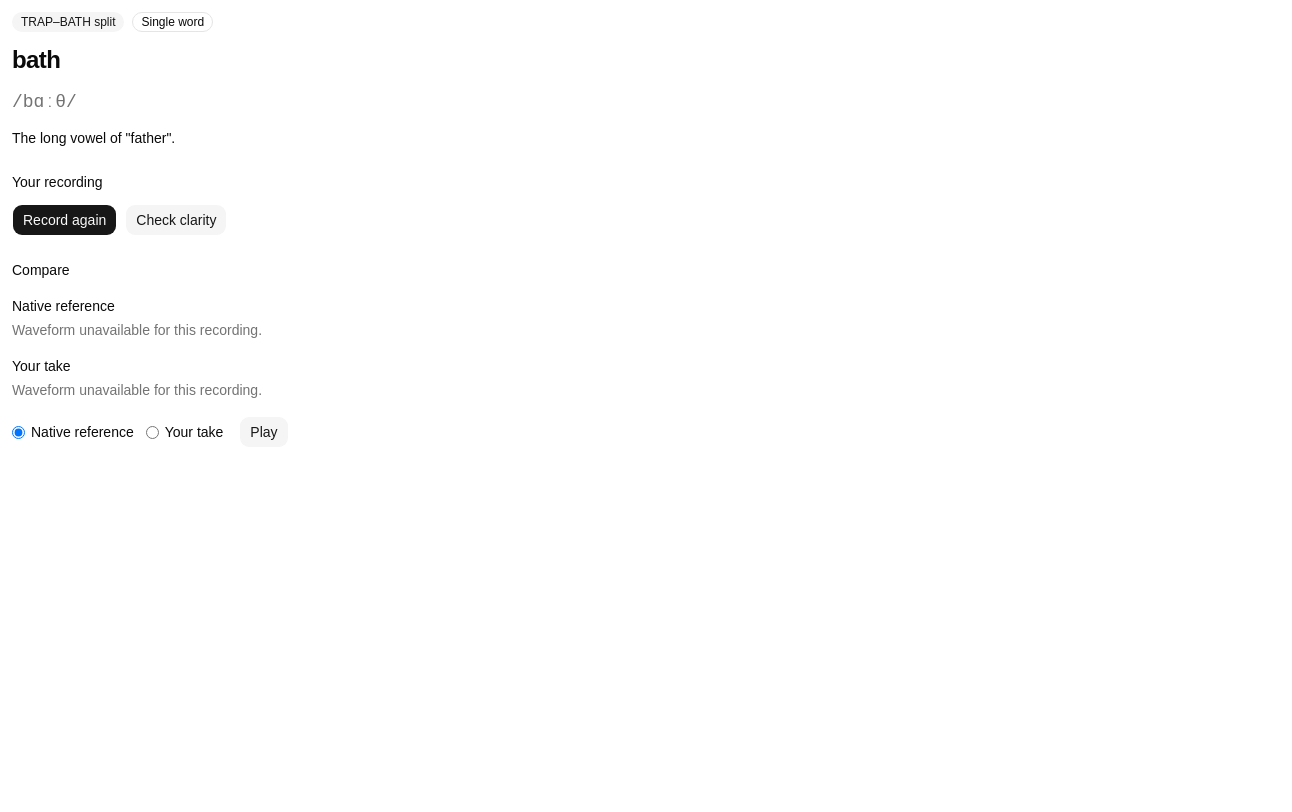
Test: after a result › clears the old score when a new take is recorded, and lets the new take be submitted
The width and height of the screenshot is (1292, 812).
Click the button "Check clarity": click(176, 220) left=125, top=204, right=227, bottom=236
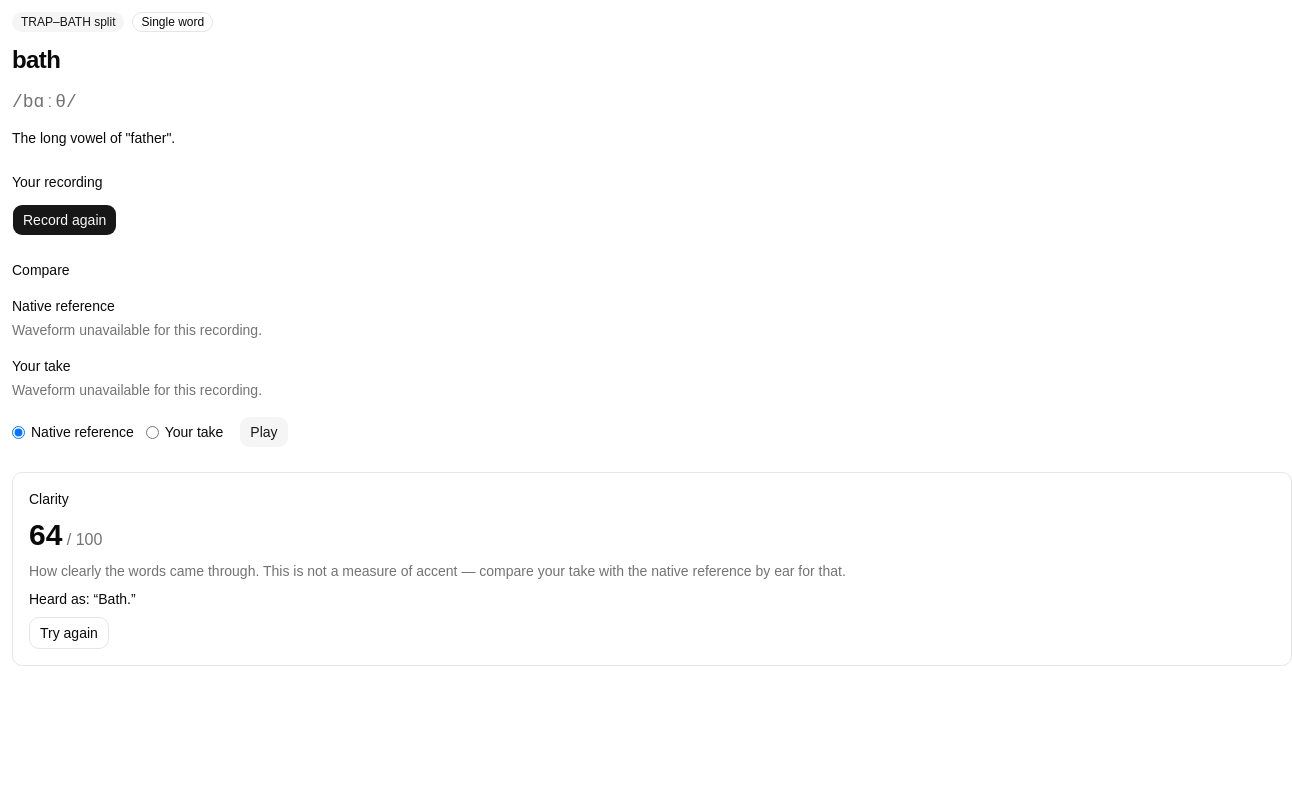
Expected: the heading "Clarity" is shown, left=29, top=491, right=69, bottom=507
Click the button "Record again": click(65, 220) left=12, top=204, right=117, bottom=236
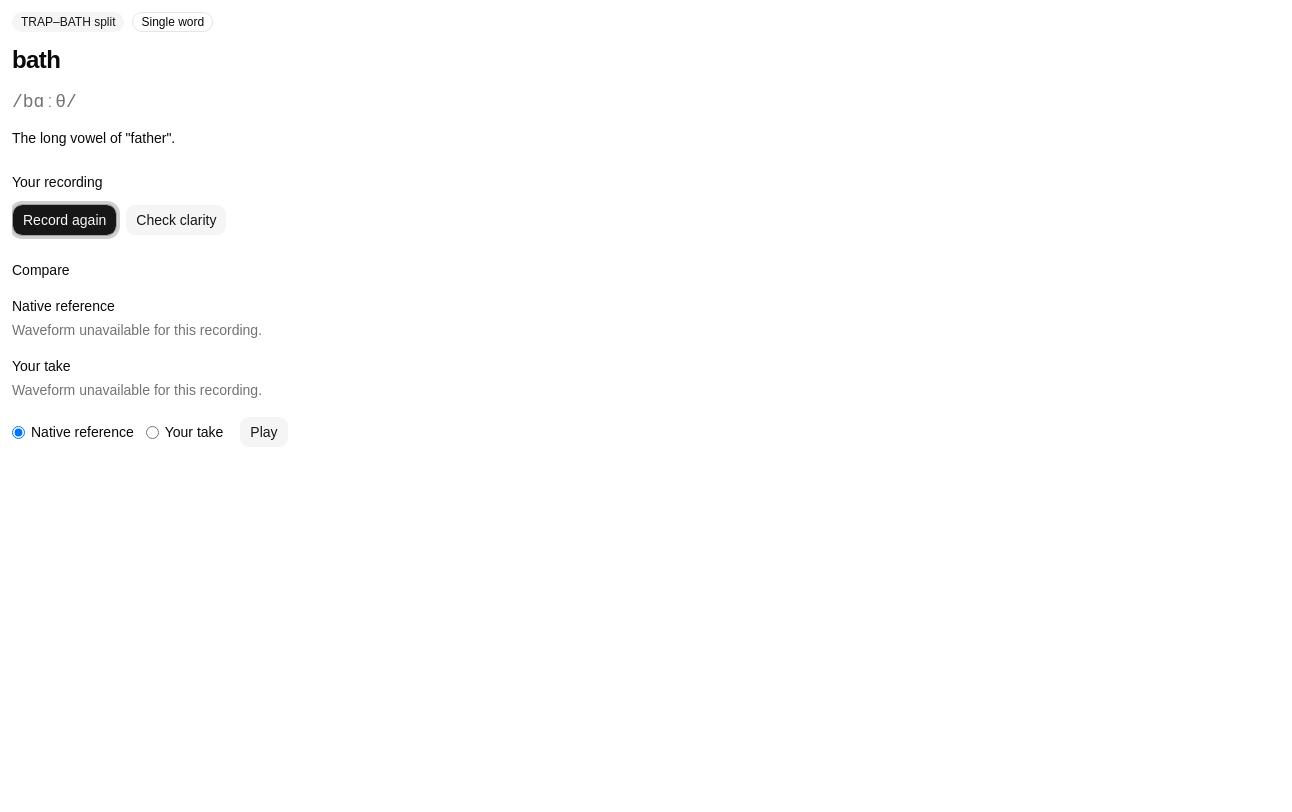
Expected: the button "Check clarity" is shown, left=125, top=204, right=227, bottom=236
